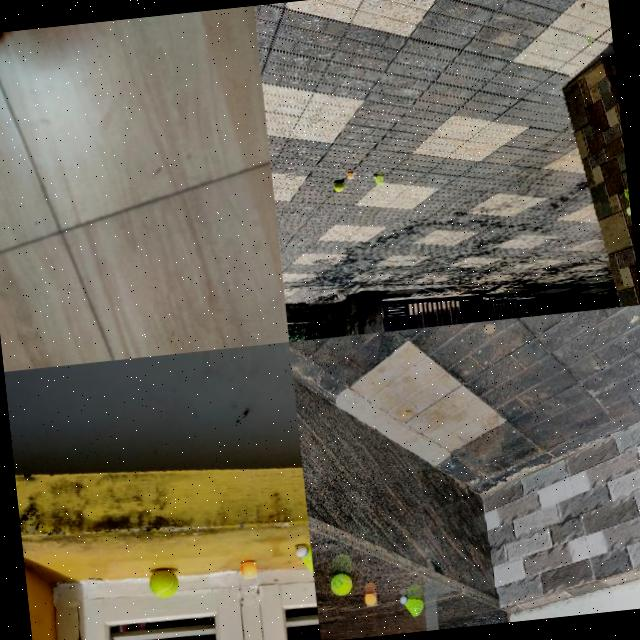ping-pong-ball: (241, 560, 257, 579), (364, 592, 377, 606), (345, 170, 354, 180)
